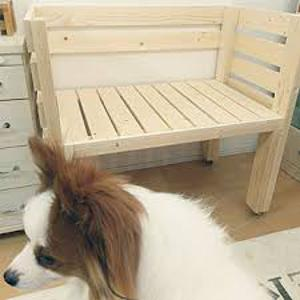yell: (2, 136, 275, 300)
